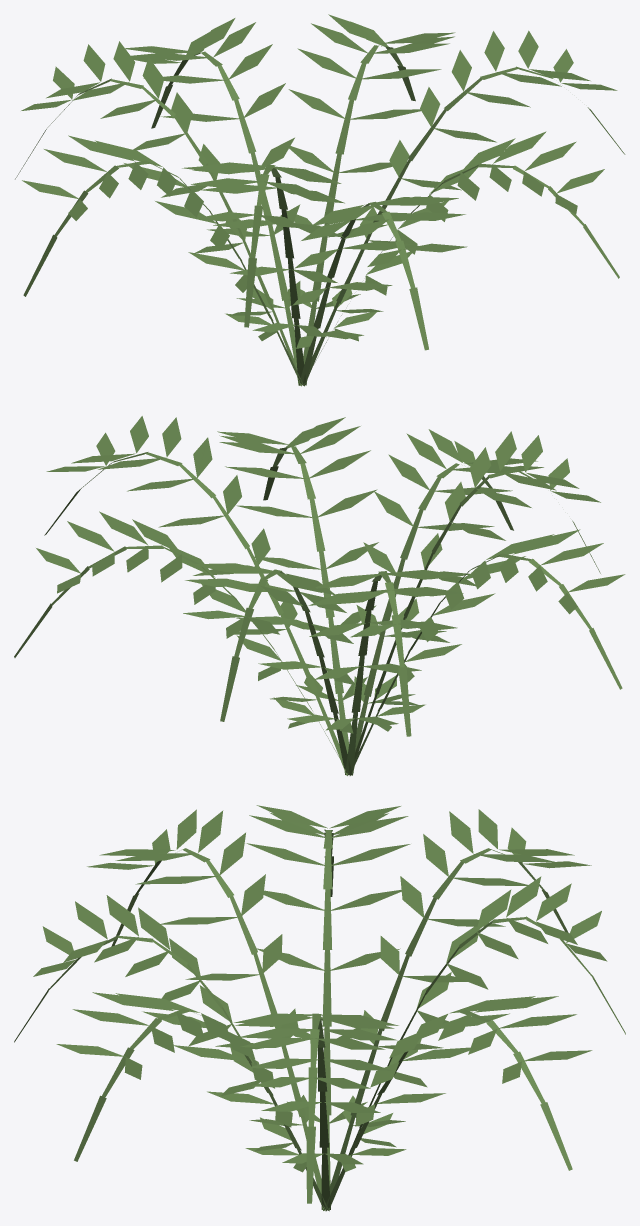
Rendered from fern.glb.
3 renders of one model, top to bottom at view 1: azimuth 30°, elevation 25°; view 2: azimuth 150°, elevation 25°; view 3: azimuth 270°, elevation 25°, orthographic. The views are drawn at different scales.
Visible parts, largest first — view 1: fern; view 2: fern; view 3: fern.
Boxes of the visible parts, bbox=[...] form: fern: bbox=[15, 14, 625, 386]; fern: bbox=[14, 416, 625, 775]; fern: bbox=[14, 805, 625, 1211].
Bounding box in the file's own units: 1.42 × 0.6673 × 1.18.
